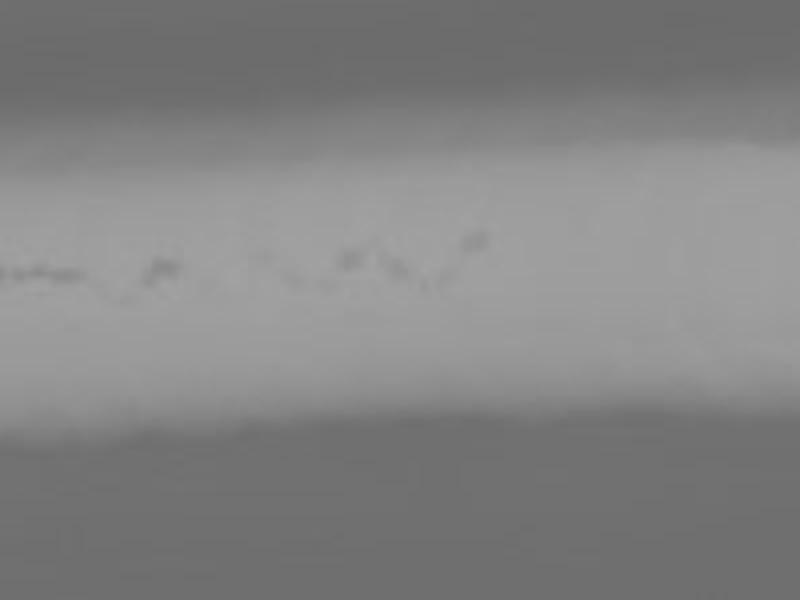defect: (1, 262, 87, 285), (143, 254, 181, 287), (457, 228, 491, 258), (371, 254, 411, 278), (337, 242, 365, 274), (275, 262, 305, 290), (309, 275, 345, 296), (435, 263, 458, 293), (116, 290, 143, 311), (419, 278, 428, 293)
